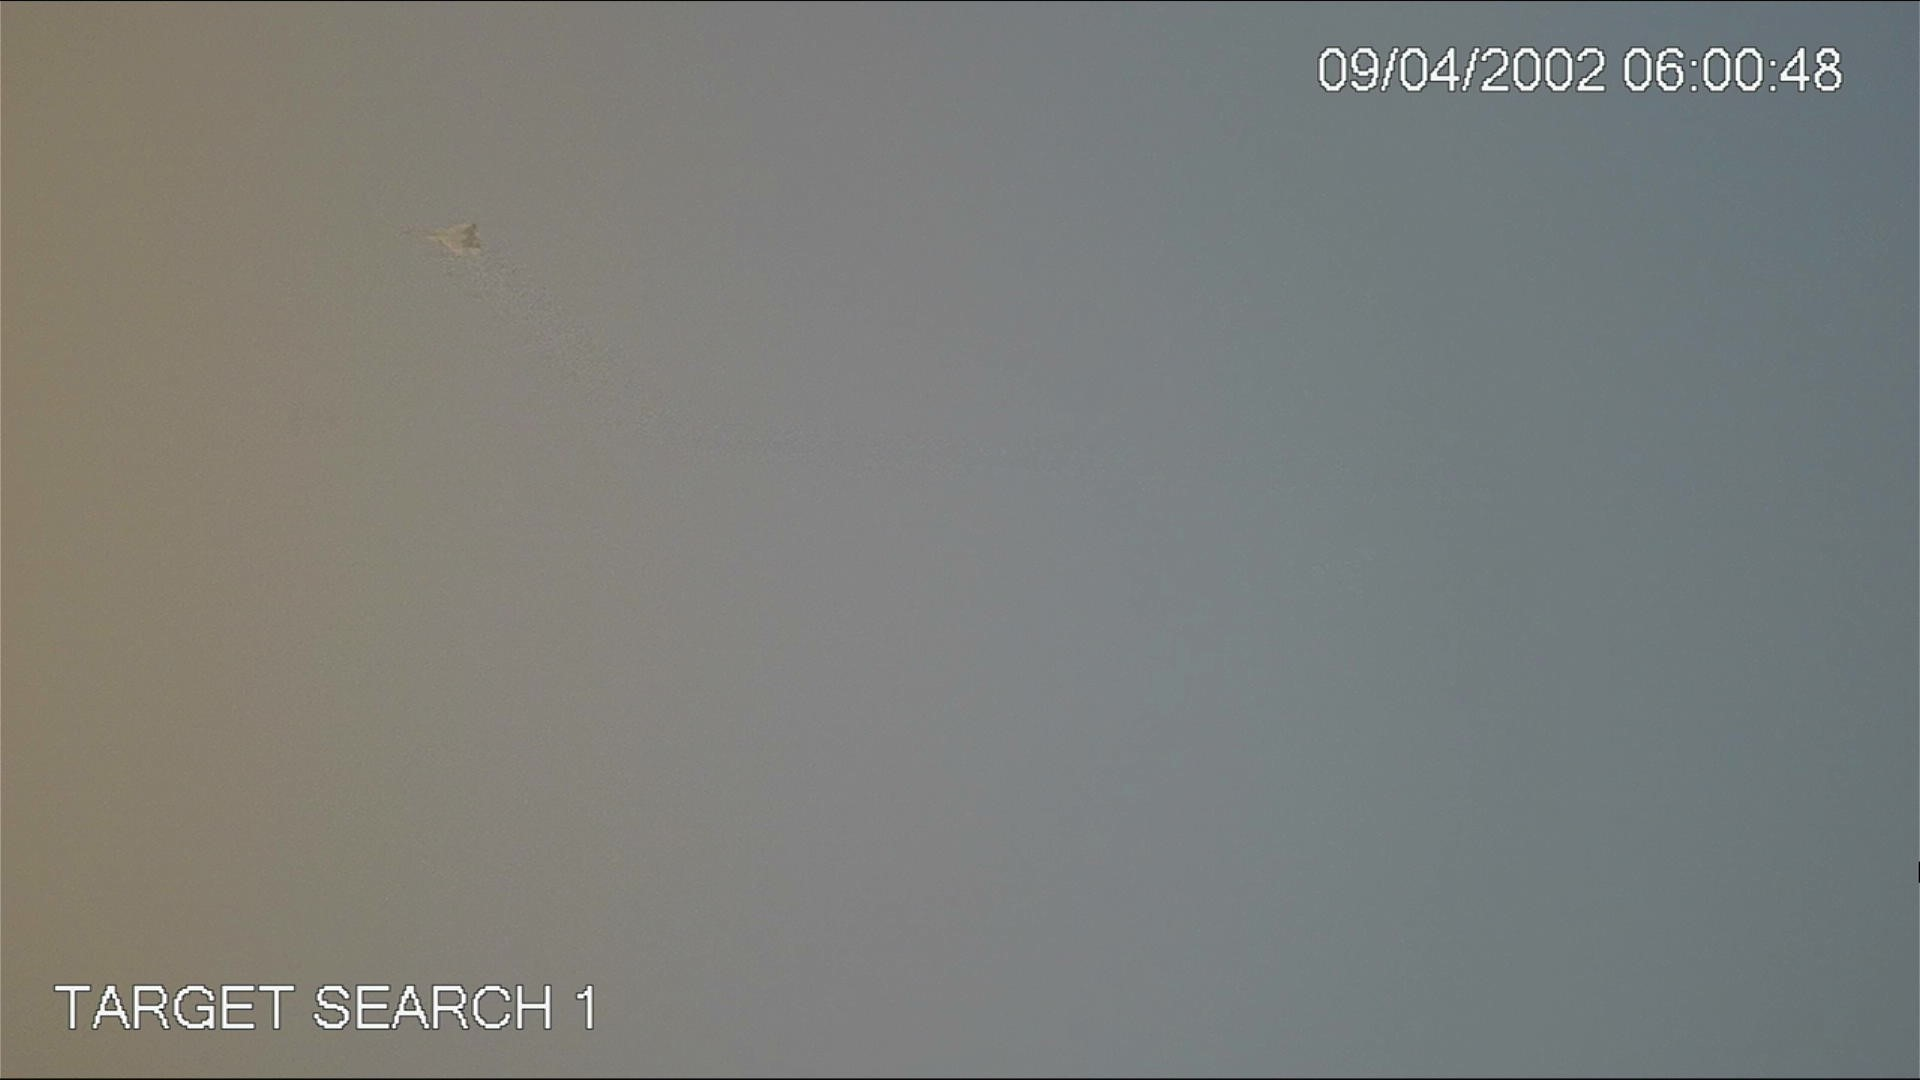SU_30: (415, 222, 483, 258)
